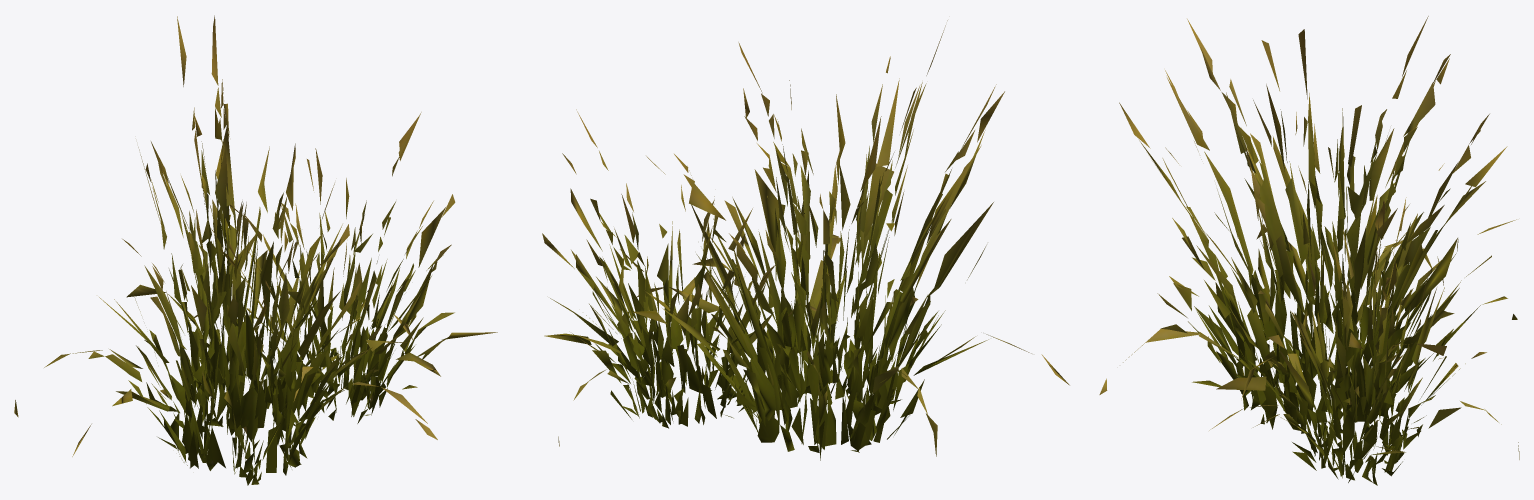
Rendered from desert_grass_fine_pair_lod1.glb.
3 renders of one model, left to right at view 1: azimuth 30°, elevation 25°; view 2: azimuth 150°, elevation 25°; view 3: azimuth 270°, elevation 25°, orthographic. The views are drawn at different scales.
Parts seen in each view (by area): view 1: desert_grass_fine_pair.001; view 2: desert_grass_fine_pair.001; view 3: desert_grass_fine_pair.001.
Boxes of the visible parts, bbox=[...] form: desert_grass_fine_pair.001: bbox=[14, 15, 497, 485]; desert_grass_fine_pair.001: bbox=[542, 20, 1069, 460]; desert_grass_fine_pair.001: bbox=[1099, 16, 1519, 485].
Size of the model in its own units: 1.14 by 1 by 0.927.
1 material, 1 textured.
